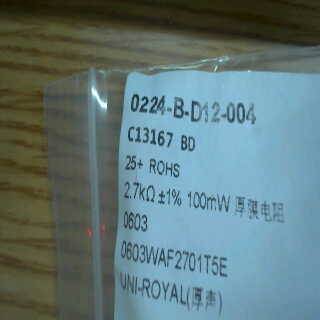2.7kR: (121, 178, 159, 206)
